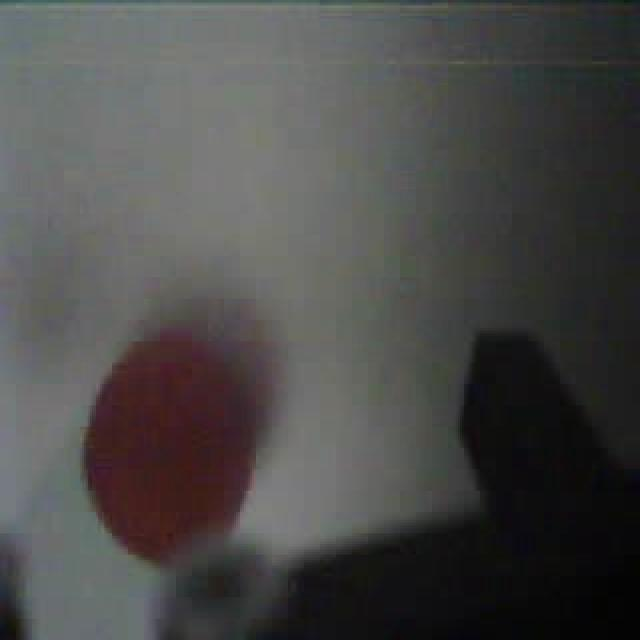red_ball: (80, 325, 262, 568)
